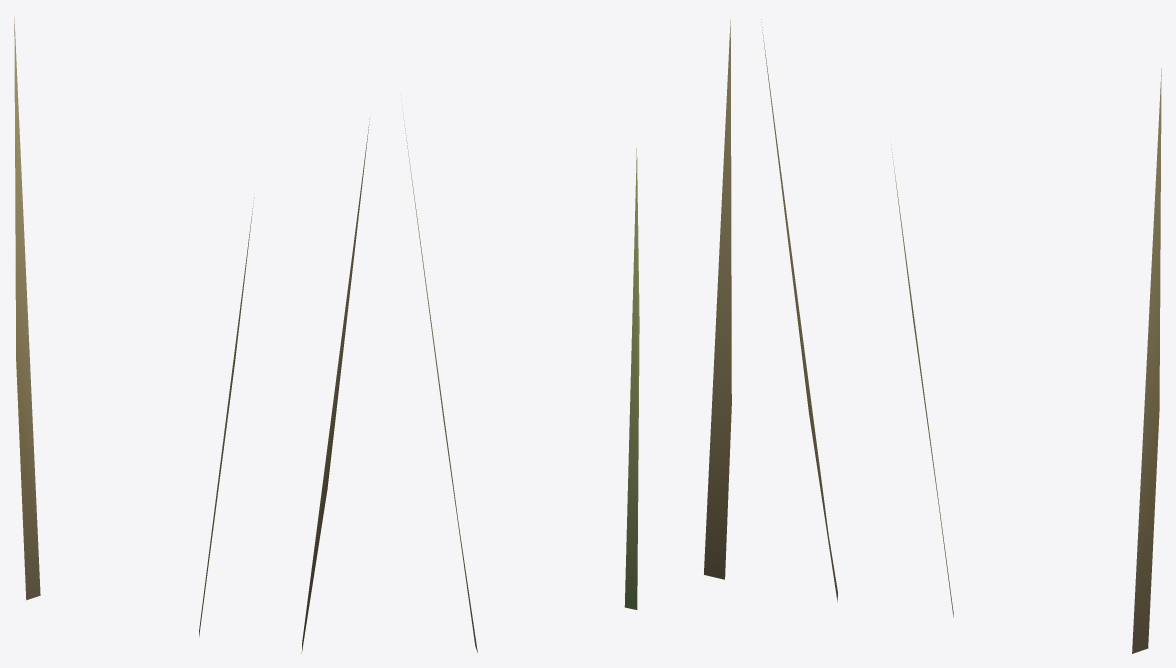
The model's file is DryTuft_LOD3.glb.
The picture shows the model from 3 angles, left to right: view 1: azimuth 90°, elevation 25°; view 2: azimuth 150°, elevation 25°; view 3: azimuth 270°, elevation 25°; orthographic projection. The views are drawn at different scales.
Parts seen in each view (by area): view 1: DryTuft_LOD3; view 2: DryTuft_LOD3; view 3: DryTuft_LOD3.
Part boxes in pixels (x1=…): DryTuft_LOD3: x1=14, y1=17, x2=369, y2=653; DryTuft_LOD3: x1=401, y1=20, x2=731, y2=652; DryTuft_LOD3: x1=761, y1=19, x2=1161, y2=653.
Bounding box in the file's own units: 0.0908 × 0.2694 × 0.1569.
